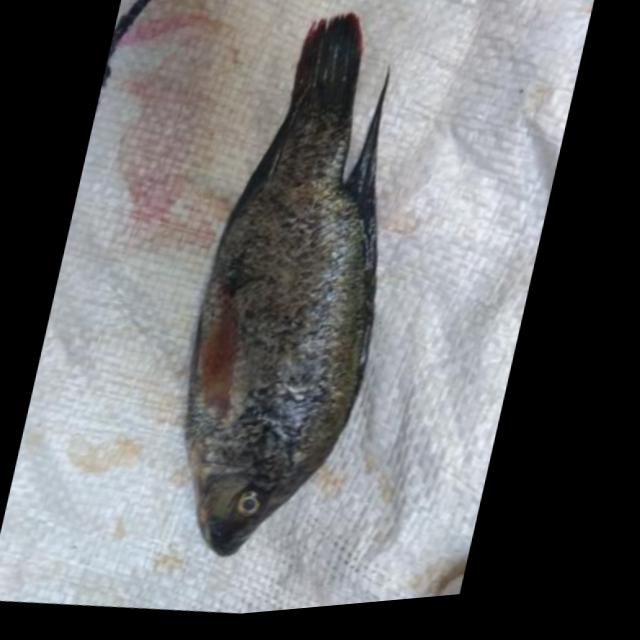Tilapia: (143, 0, 450, 580)
